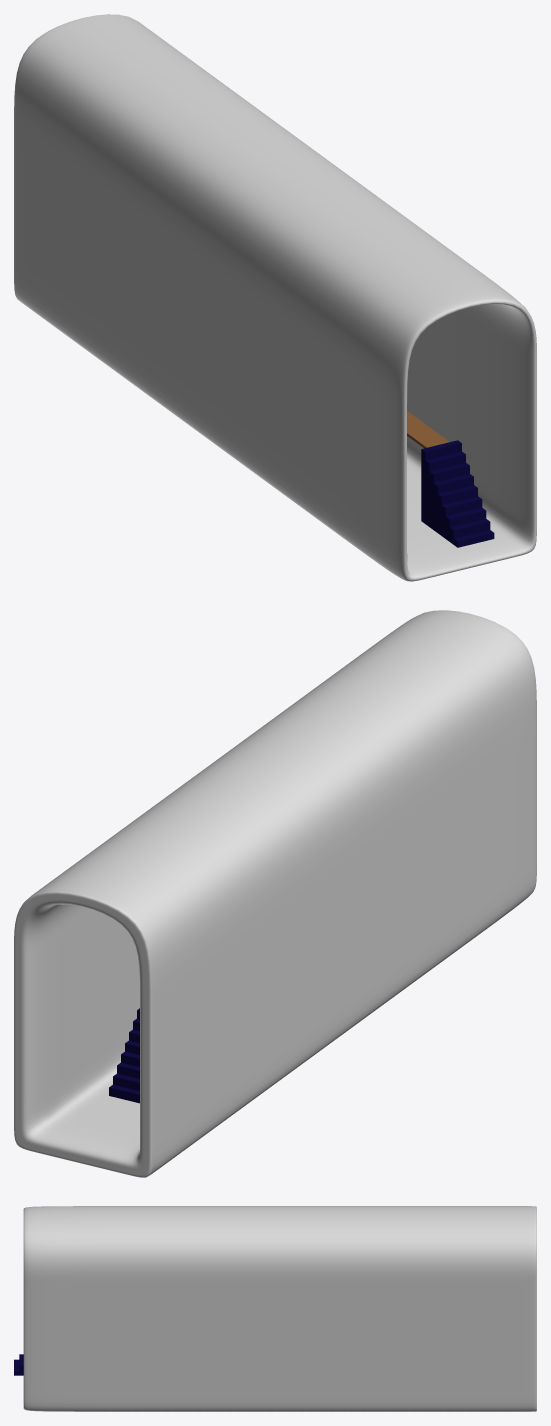
The model's file is Tunnel.fbx.
The picture shows the model from 3 angles, top to bottom: view 1: azimuth 30°, elevation 25°; view 2: azimuth 150°, elevation 25°; view 3: azimuth 270°, elevation 25°; orthographic projection. The views are drawn at different scales.
Parts seen in each view (by area): view 1: Cube.001; view 2: Cube.001; view 3: Cube.001.
Boxes of the visible parts, x1,y1,x2,y2 form: Cube.001: [14, 14, 536, 581]; Cube.001: [14, 610, 536, 1177]; Cube.001: [14, 1206, 536, 1411].
Bounding box in the file's own units: 1206 × 2245 × 5987.
